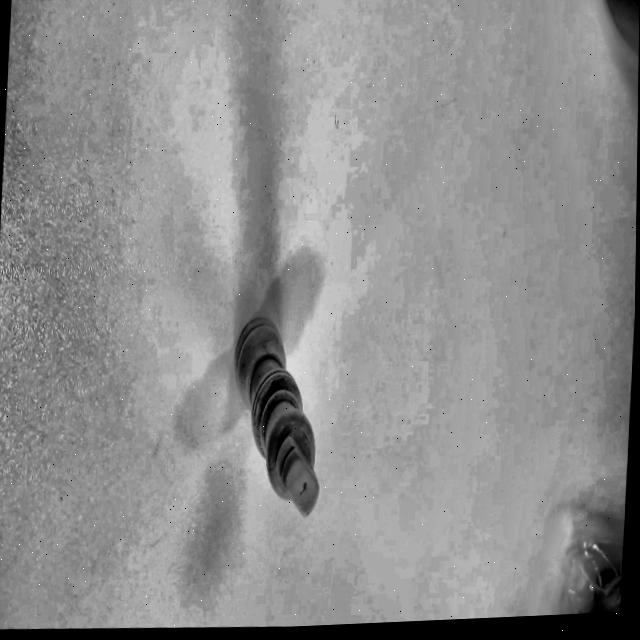white-king: (234, 314, 318, 515)
